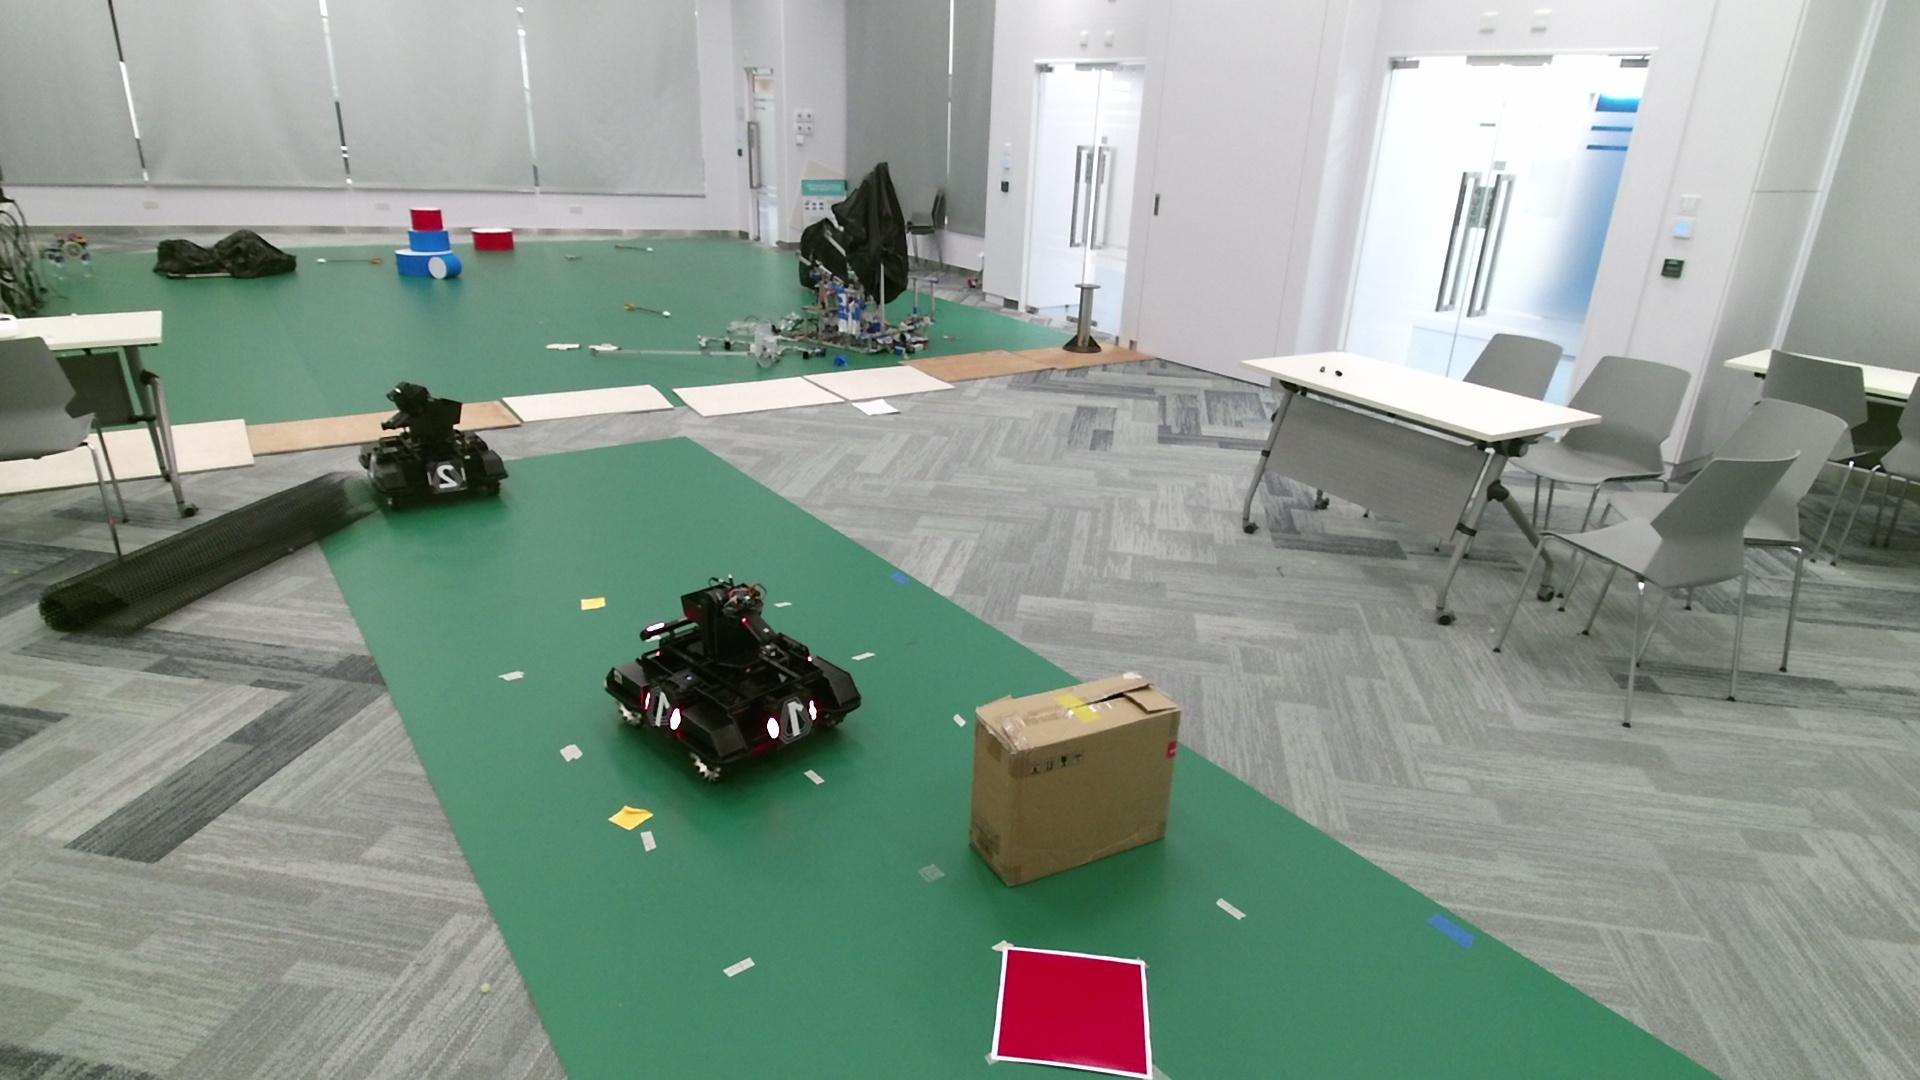robot: (603, 574, 862, 781), (357, 380, 512, 509)
